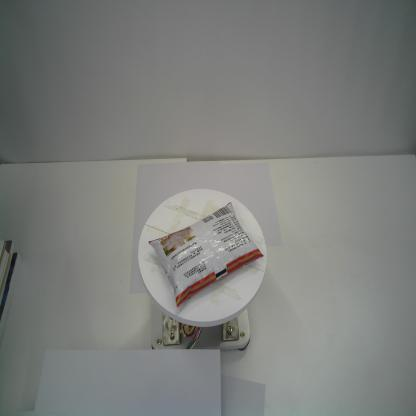Seasoner: (148, 200, 266, 310)
